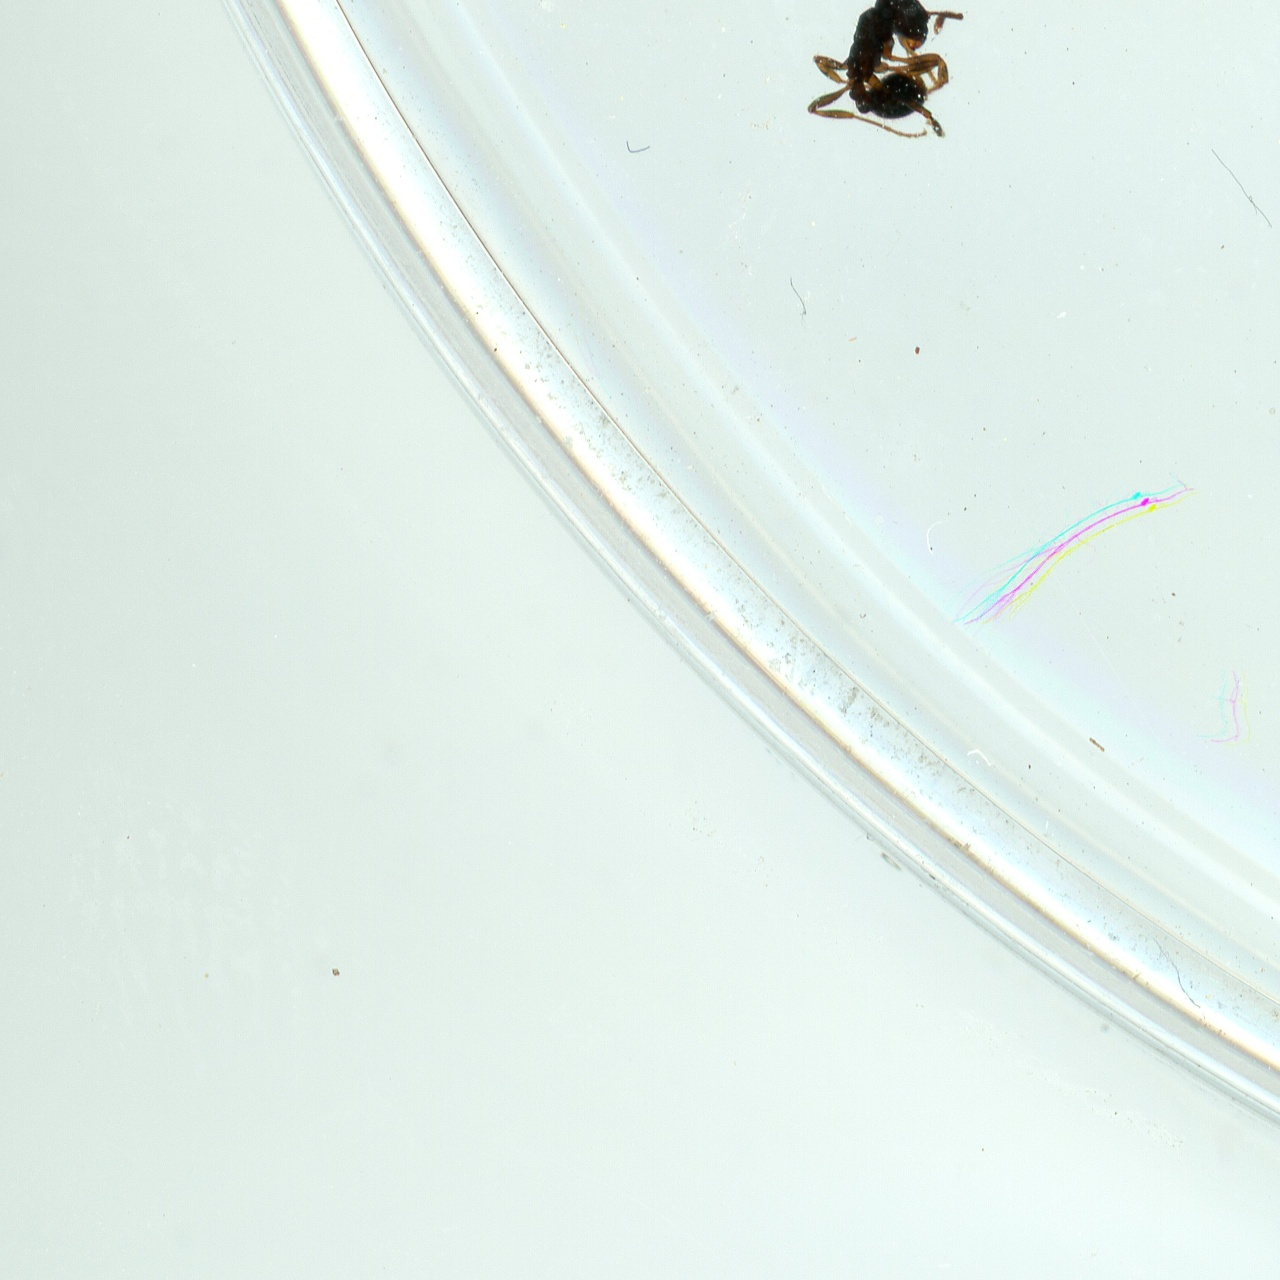arthropod: (797, 0, 973, 144)
